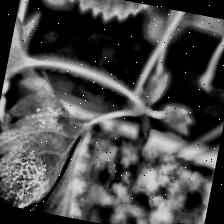Powdery Mildew Leaf: (0, 62, 100, 218)
